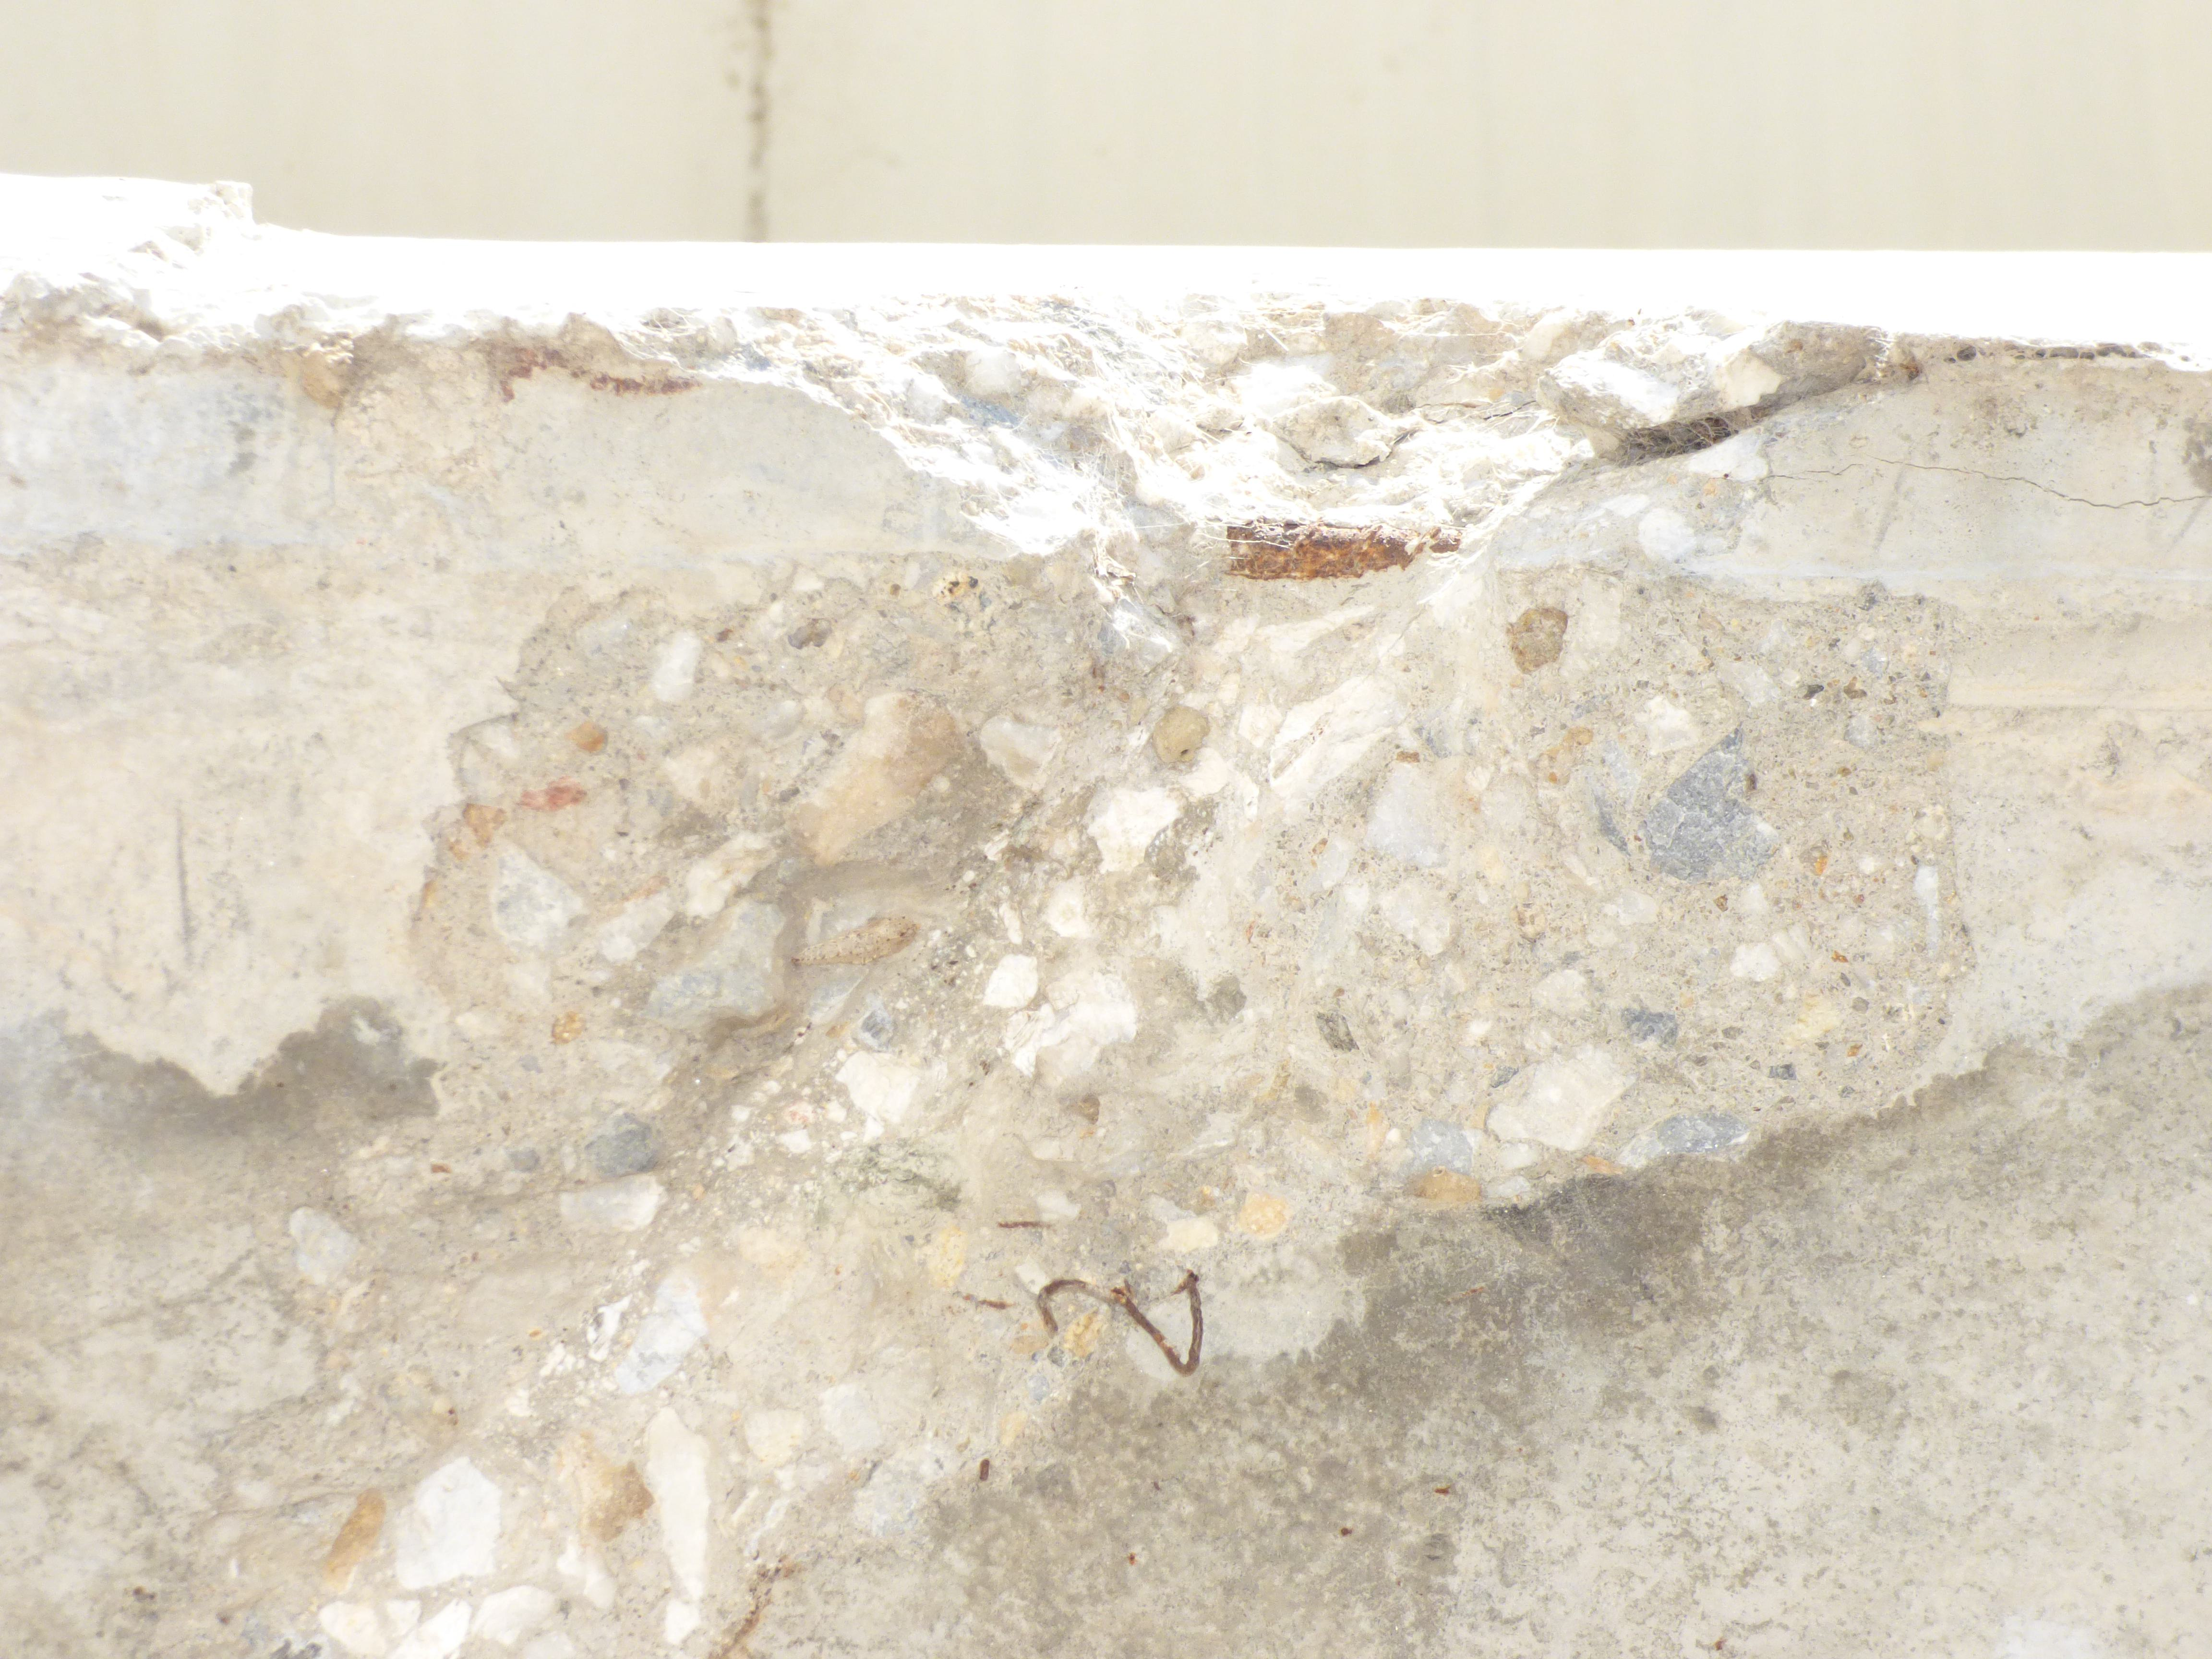Crack: (1768, 453, 2212, 509)
Exposed reinforcement: (1036, 1269, 1204, 1377), (1226, 516, 1463, 580)
Spalling: (585, 295, 2160, 573)
